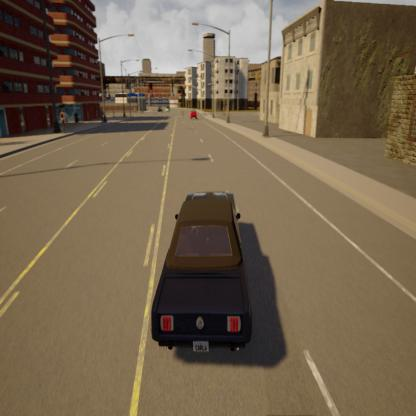Cars: (148, 148, 265, 370), (188, 110, 201, 124), (164, 104, 171, 116), (156, 105, 164, 115)
Pedestrian: (59, 102, 67, 136)
